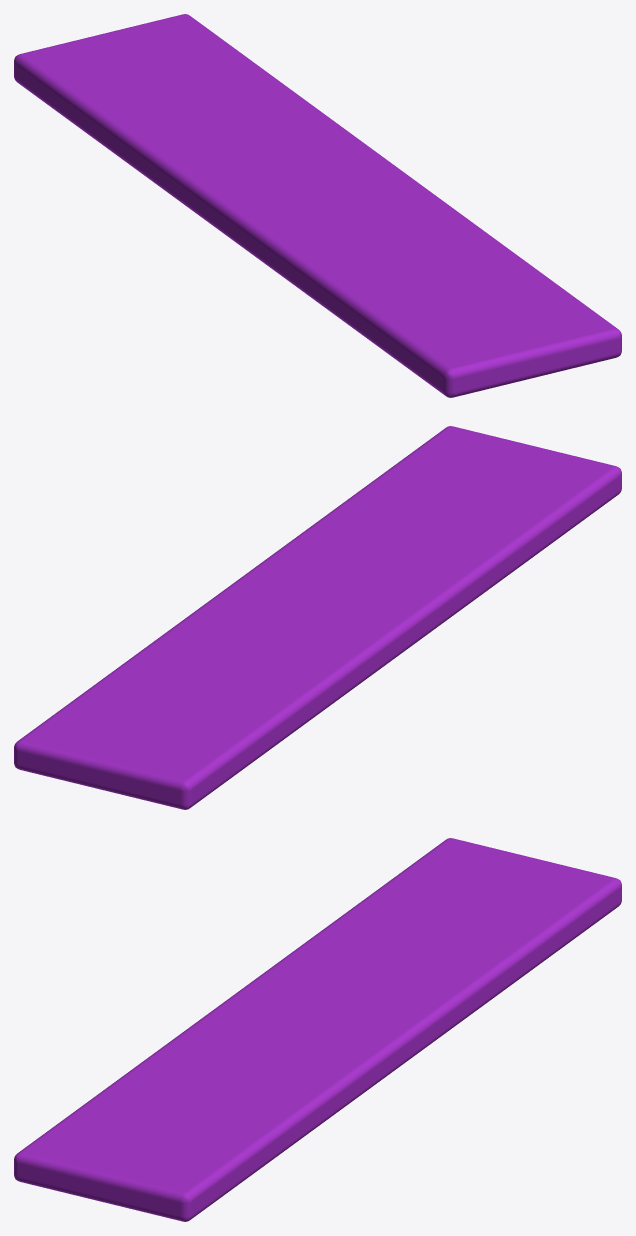
Rendered from Platform3.fbx.
3 renders of one model, top to bottom at view 1: azimuth 30°, elevation 25°; view 2: azimuth 150°, elevation 25°; view 3: azimuth 330°, elevation 25°, orthographic.
Visible parts, largest first — view 1: Cube_2; view 2: Cube_2; view 3: Cube_2.
Part boxes in pixels (x1,y1,x2,y2): Cube_2: [14, 14, 621, 397]; Cube_2: [14, 426, 621, 809]; Cube_2: [14, 838, 621, 1221].
Size of the model in its own units: 750 by 116 by 3205.
